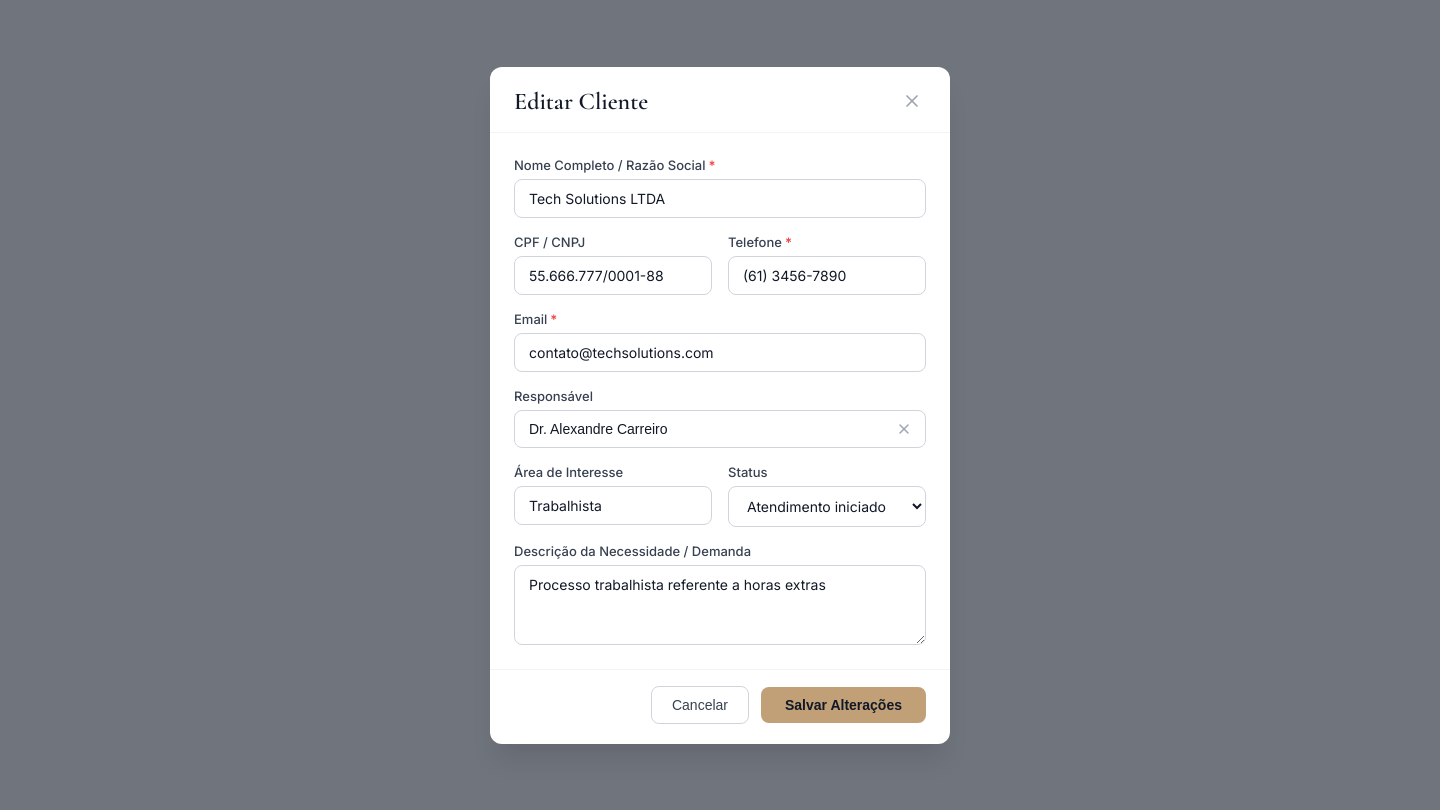
EditClientModal › exibe erro de validação quando há CPF/CNPJ com tamanho inválido
The width and height of the screenshot is (1440, 810).
Step 1. Replace the text in the field showing "55.666.777/0001-88" with "1" → (613, 275), box [514,256,712,294]
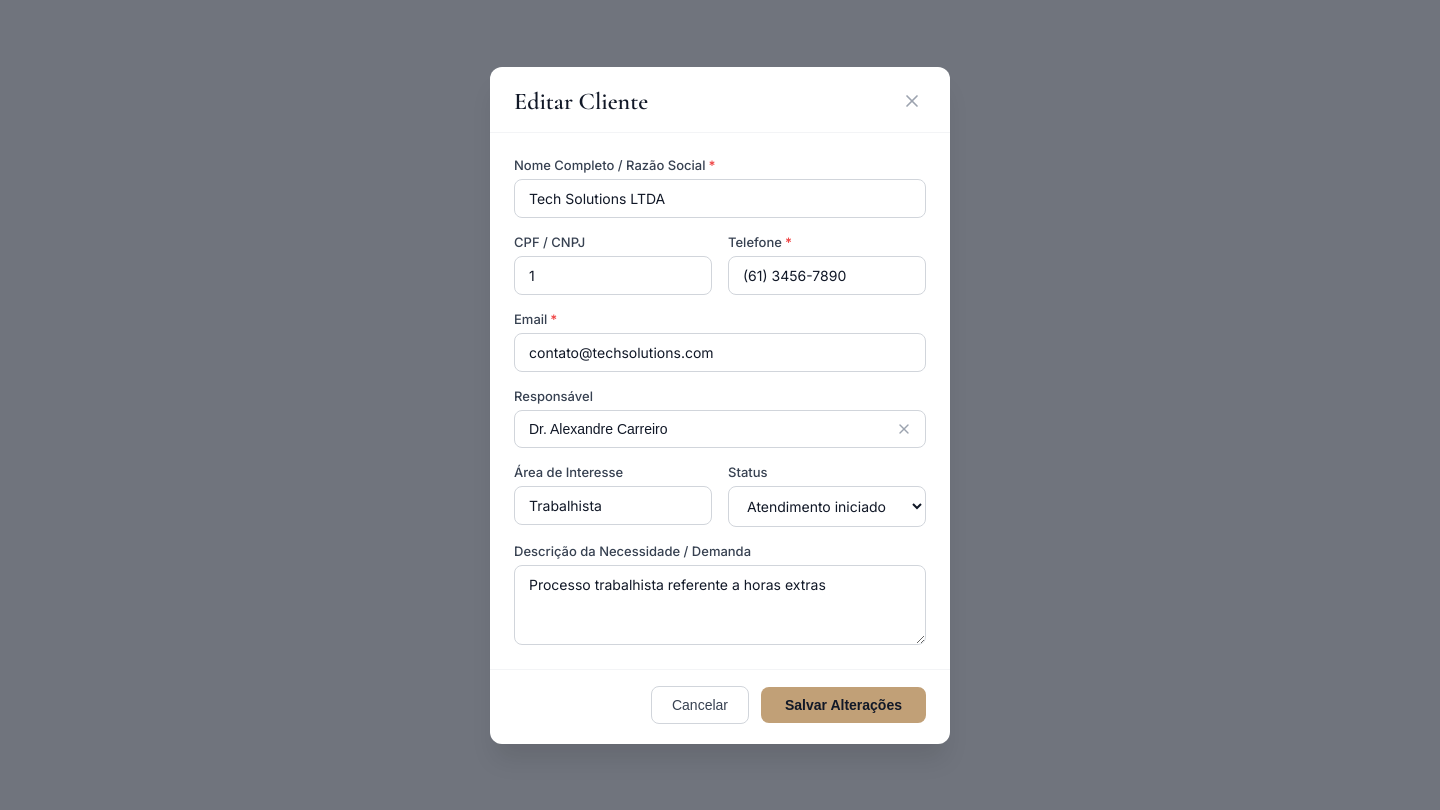
Step 2. Click the button "Salvar Alterações" → (844, 704), box [761,686,926,722]
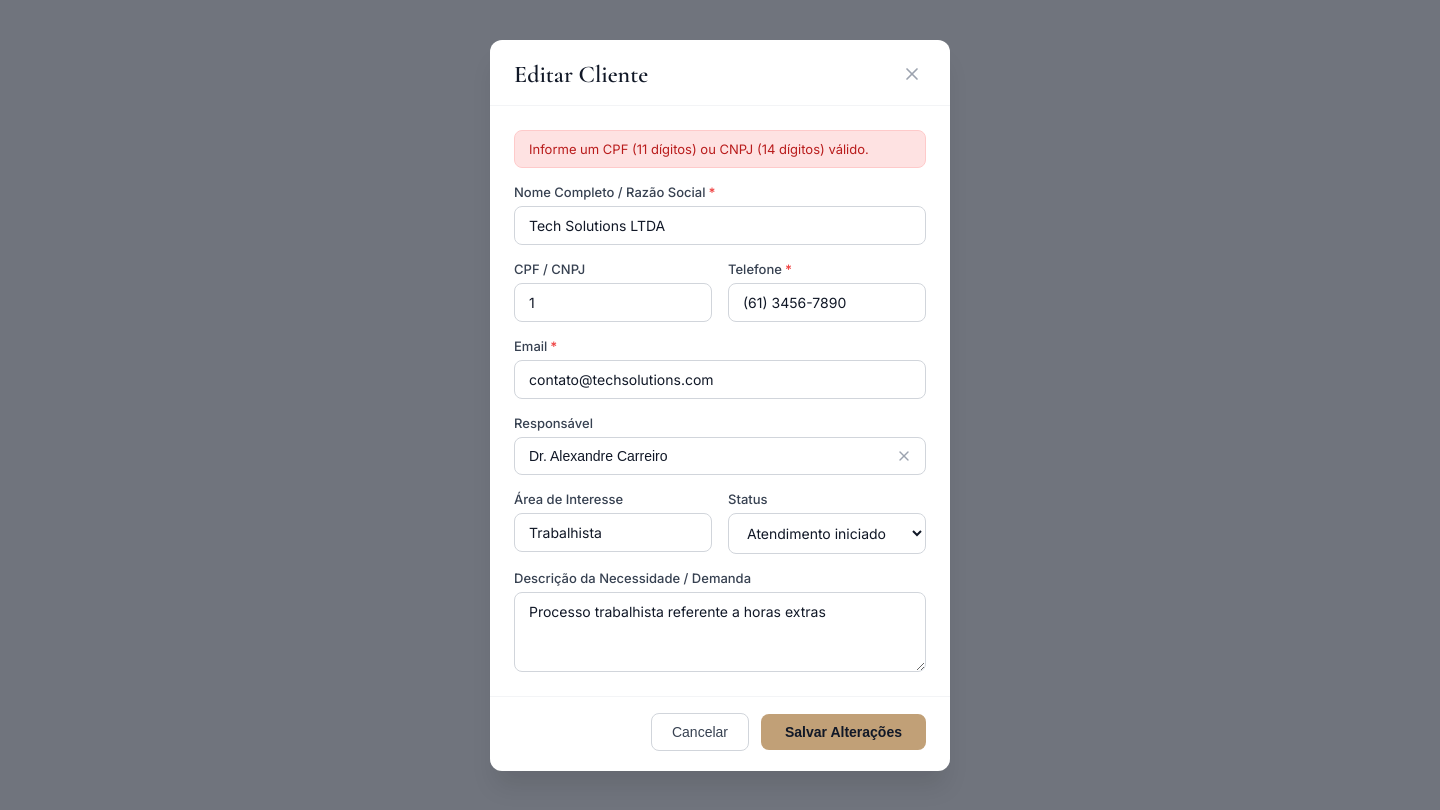
Check: the text "Informe um CPF (11 dígitos) ou CNPJ (14 dígitos) válido." is shown, box [514,130,926,168]
